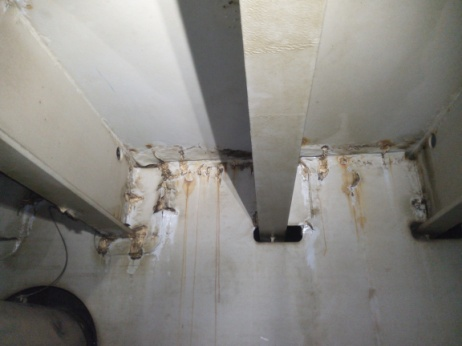corrosion: (125, 149, 192, 226), (331, 152, 377, 249), (207, 160, 229, 342), (86, 225, 159, 259), (352, 133, 409, 166), (307, 146, 333, 187)
